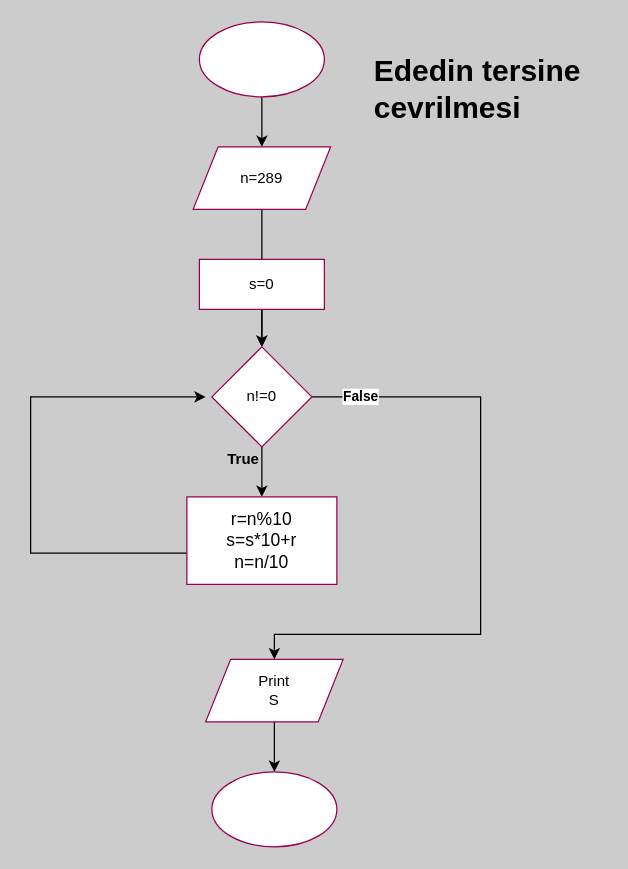
Some shapes in this 628 by 869 pixel diagram are drawn without their labels. The shapes that lost their labels are listed below. From the top down, each one's centre as x and y in pixels, then its label:
At (x=261, y=59): "Start".
At (x=274, y=809): "End".
